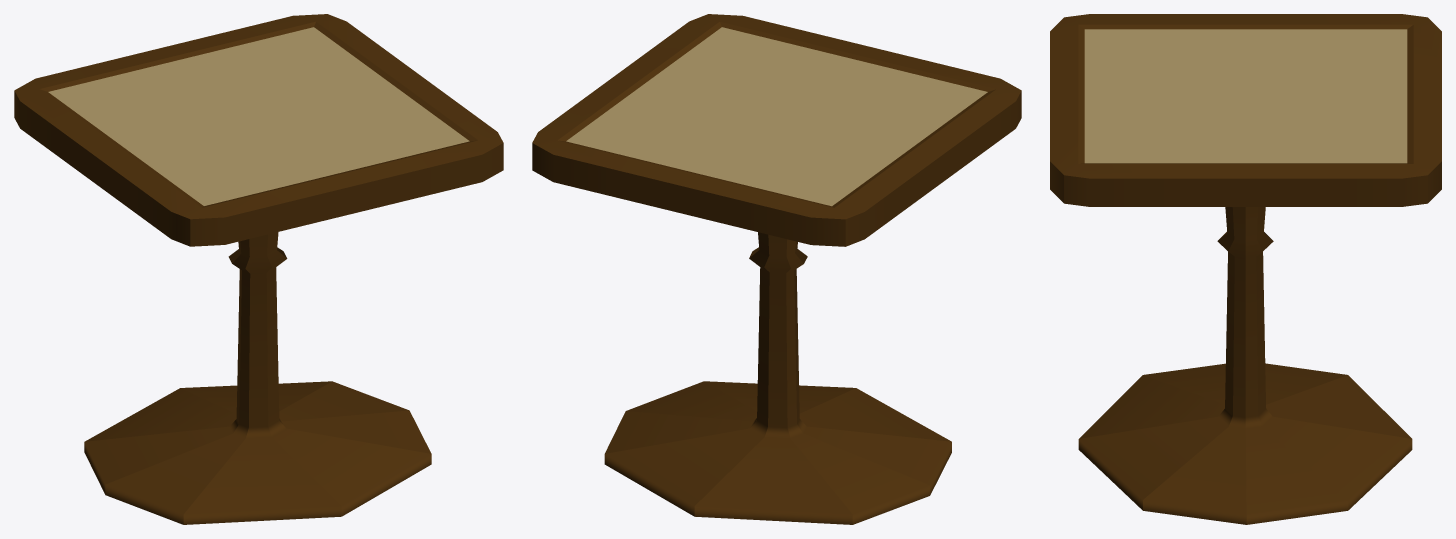
The model's file is table.fbx.
3 renders of one model, left to right at view 1: azimuth 30°, elevation 25°; view 2: azimuth 150°, elevation 25°; view 3: azimuth 270°, elevation 25°, orthographic. The views are drawn at different scales.
Visible parts, largest first — view 1: table; view 2: table; view 3: table.
Boxes of the visible parts, x1,y1,x2,y2 form: table: [14, 14, 503, 524]; table: [532, 14, 1021, 524]; table: [1050, 14, 1441, 524].
Bounding box in the file's own units: 1.38 × 1.39 × 1.39.
